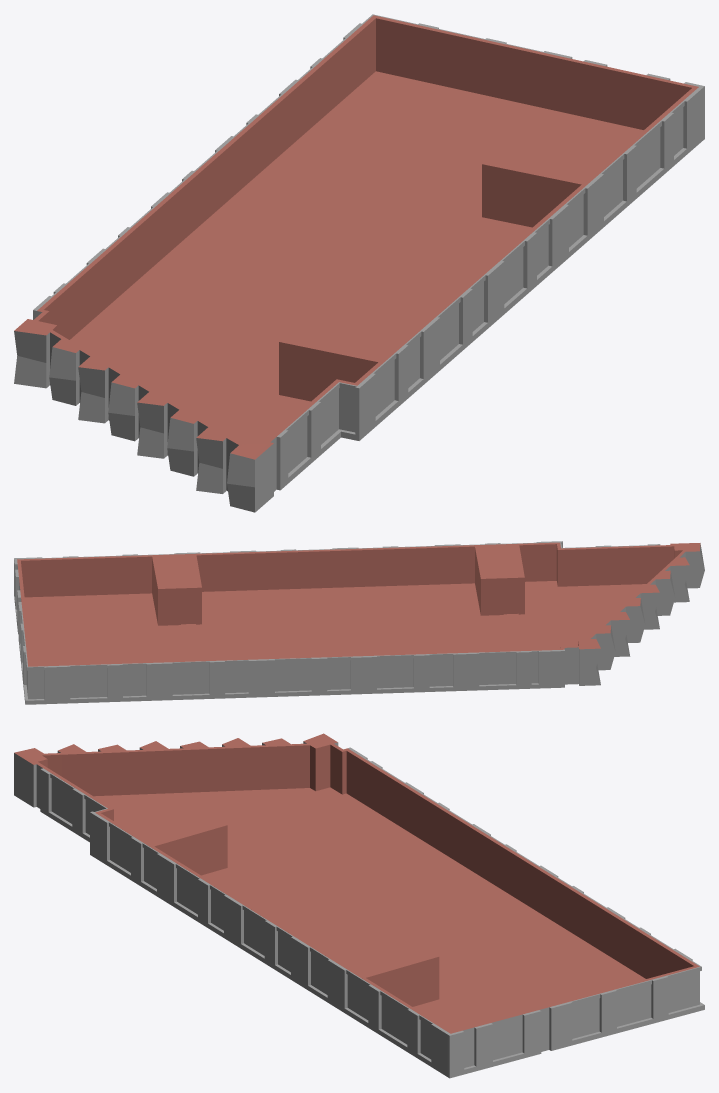
The model's file is JLL_Ruya_Region3DModels_Riyadh_Derived_HeroBuildings_Building 305_Floors_KSA_04_04105_B29_Floor_T2_2.fbx.
3 views of the same model, one above another, from view 1: azimuth 30°, elevation 25°; view 2: azimuth 150°, elevation 25°; view 3: azimuth 270°, elevation 25° (orthographic). The views are drawn at different scales.
Visible parts, largest first — view 1: KSA_04_04105_B29_Floor_T2_2; view 2: KSA_04_04105_B29_Floor_T2_2; view 3: KSA_04_04105_B29_Floor_T2_2.
Boxes of the visible parts, x1,y1,x2,y2 form: KSA_04_04105_B29_Floor_T2_2: (14, 14, 704, 512); KSA_04_04105_B29_Floor_T2_2: (14, 541, 704, 704); KSA_04_04105_B29_Floor_T2_2: (14, 733, 704, 1078).
Size of what is drawn, in the model's own units: 5169 by 348 by 4993.
